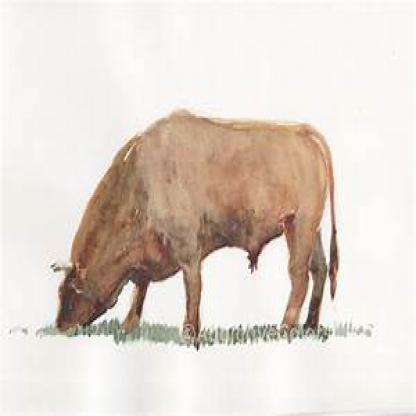cow: (50, 108, 340, 338)
